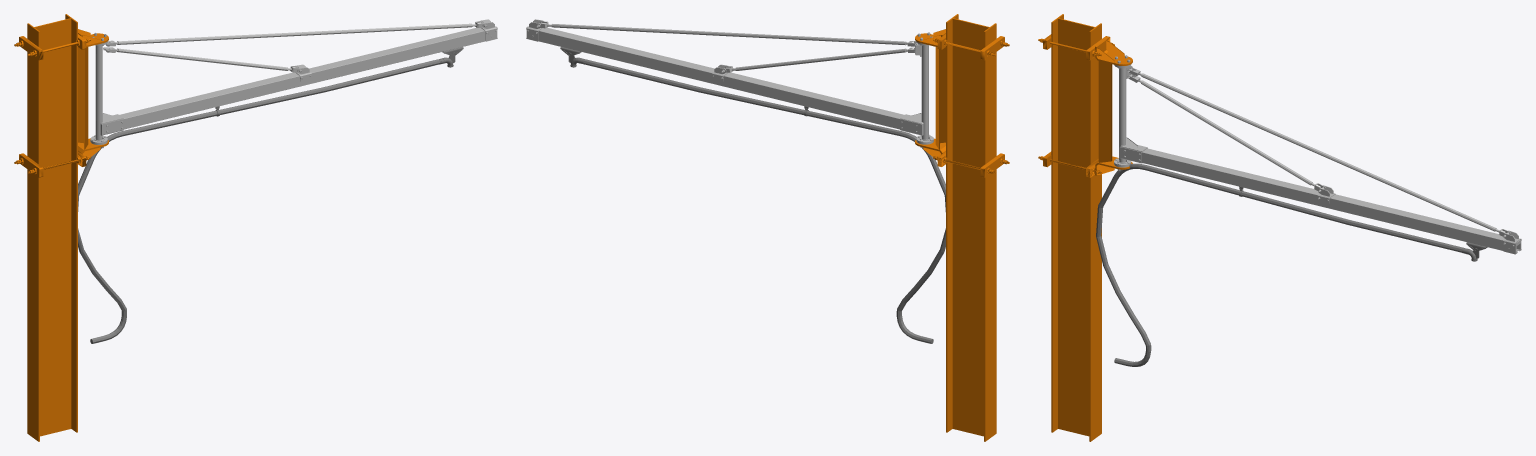
Rendered from aardwolf_all_part_WALL BRACED JIB CRANE 4M 250KG@p1_-200_0_0@p2_4085_0_2748.fbx.
3 views of the same model, side by side, from view 1: azimuth 30°, elevation 25°; view 2: azimuth 150°, elevation 25°; view 3: azimuth 330°, elevation 25° (orthographic).
Parts seen in each view (by area): view 1: yellow001, aardwolf_all_part_obj220, aardwolf_all_part_obj137, aardwolf_all_part_obj224; view 2: yellow001, aardwolf_all_part_obj220, aardwolf_all_part_obj137, aardwolf_all_part_obj224; view 3: yellow001, aardwolf_all_part_obj220, aardwolf_all_part_obj137, aardwolf_all_part_obj224.
Boxes of the visible parts, x1,y1,x2,y2 form: yellow001: [27, 14, 77, 441]; aardwolf_all_part_obj220: [90, 19, 497, 148]; aardwolf_all_part_obj137: [78, 59, 440, 343]; aardwolf_all_part_obj224: [14, 29, 108, 177]; yellow001: [946, 14, 996, 441]; aardwolf_all_part_obj220: [526, 19, 933, 147]; aardwolf_all_part_obj137: [583, 59, 945, 343]; aardwolf_all_part_obj224: [915, 29, 1009, 177]; yellow001: [1051, 14, 1101, 441]; aardwolf_all_part_obj220: [1114, 55, 1521, 254]; aardwolf_all_part_obj137: [1096, 163, 1463, 366]; aardwolf_all_part_obj224: [1038, 34, 1132, 177].
Bounding box in the file's own units: 4831 × 4000 × 360.
